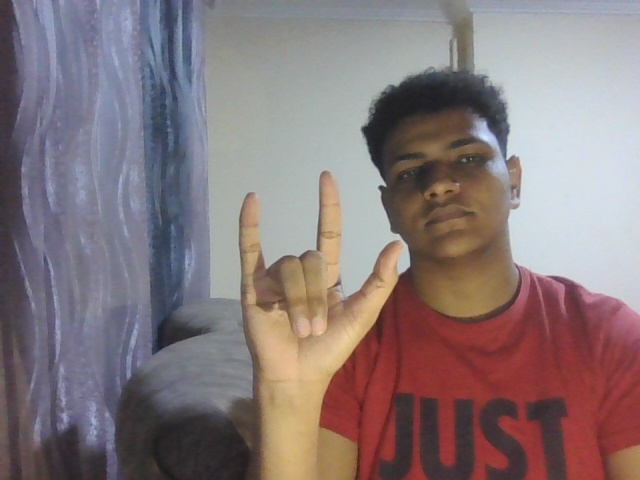iloveyou: (224, 165, 411, 397)
